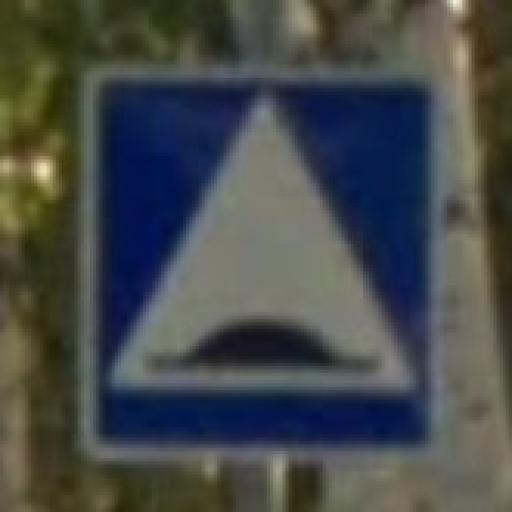traffic_sign: (78, 66, 448, 466)
